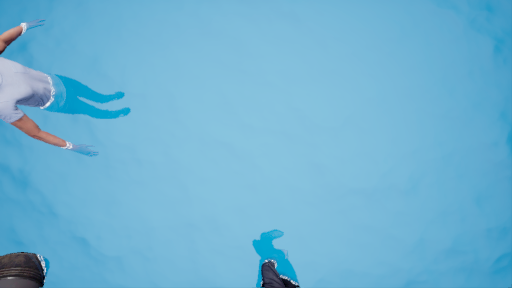person: (2, 26, 127, 162)
